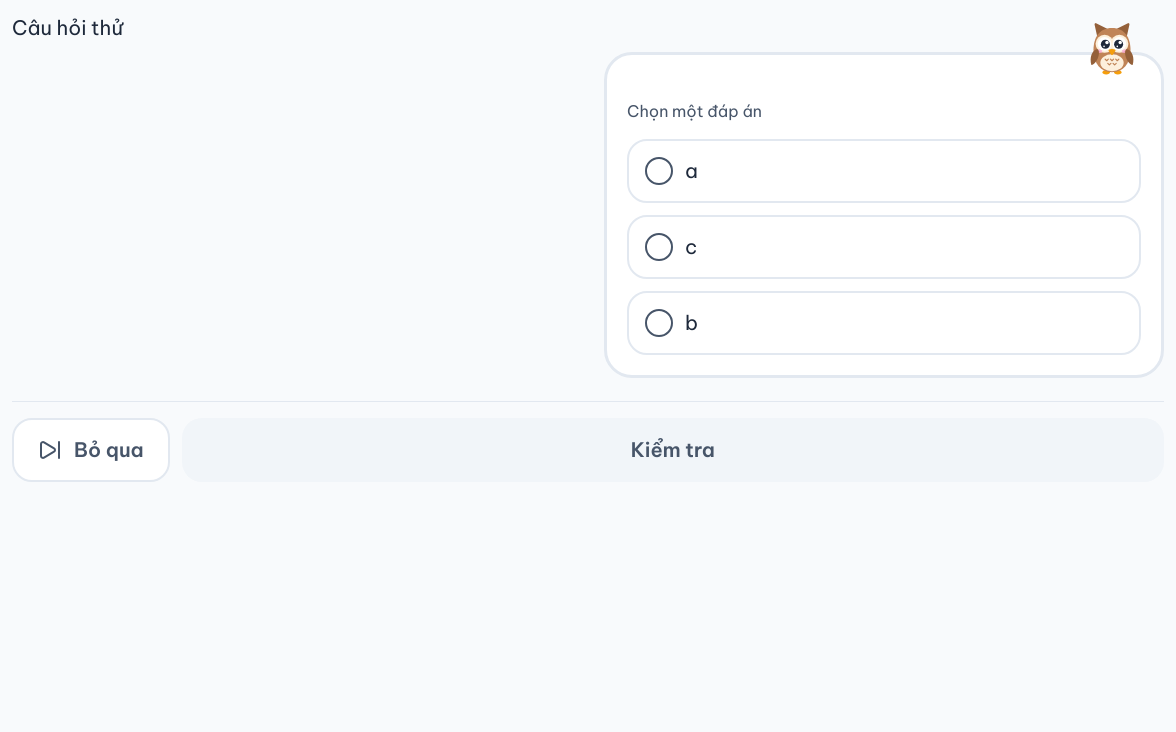
Test: skipping an exercise › is gone once the answer is accepted
The width and height of the screenshot is (1176, 732).
Expected: the button "Bỏ qua" is enabled, [12, 418, 170, 482]
What coordinates should you click on to do the following:
click the button "a"
I would click on:
 (659, 171)
Its box is [627, 139, 1141, 203].
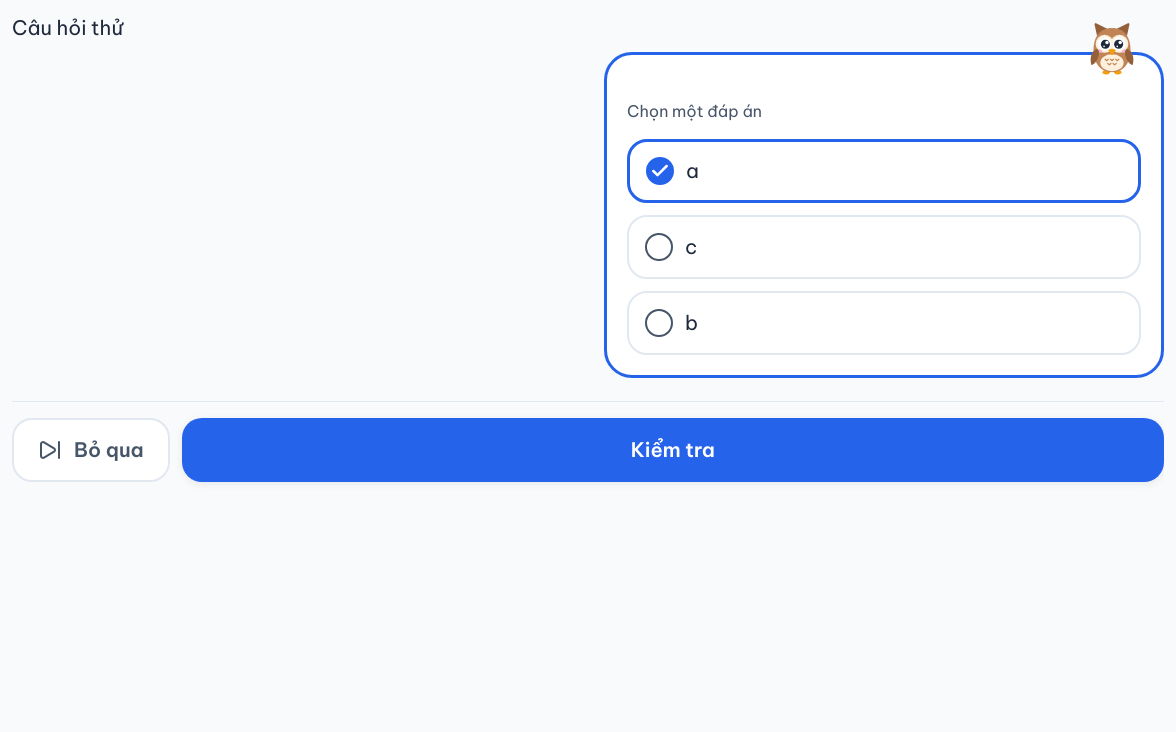
What coordinates should you click on to do the following:
click the button "Kiểm tra"
I would click on:
 (673, 450)
Its box is [182, 418, 1164, 482].
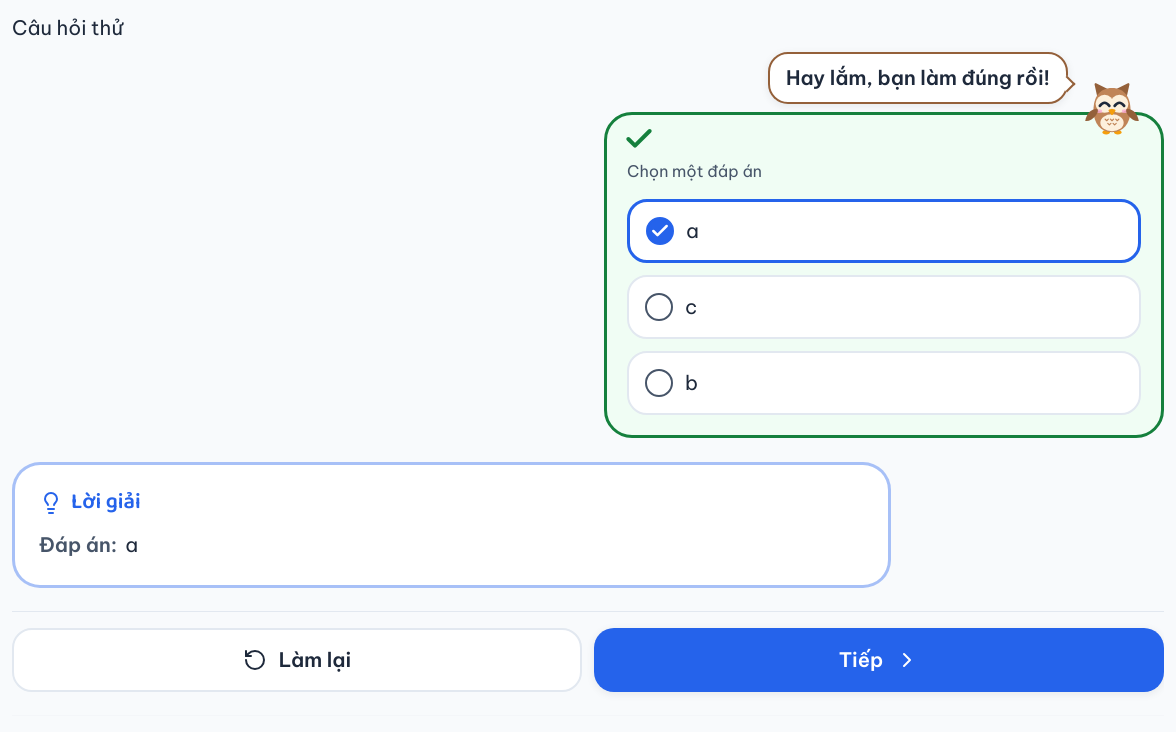
Now the button "Bỏ qua" is gone
